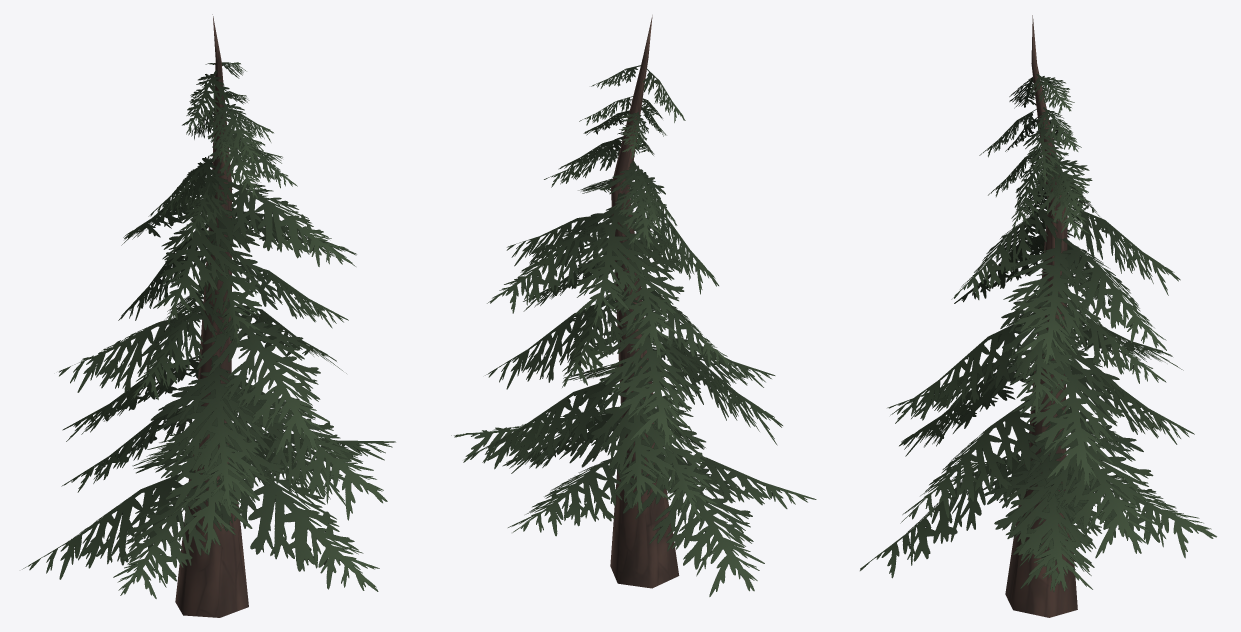
Rendered from Pine Tree 04.fbx.
3 renders of one model, left to right at view 1: azimuth 30°, elevation 25°; view 2: azimuth 150°, elevation 25°; view 3: azimuth 270°, elevation 25°, orthographic. The views are drawn at different scales.
Parts seen in each view (by area): view 1: pine_tree_04_m_LOD0; view 2: pine_tree_04_m_LOD0; view 3: pine_tree_04_m_LOD0.
Boxes of the visible parts, x1,y1,x2,y2 form: pine_tree_04_m_LOD0: (22, 14, 395, 617); pine_tree_04_m_LOD0: (451, 15, 816, 596); pine_tree_04_m_LOD0: (860, 15, 1216, 617).
Size of what is drawn, in the model's own units: 566 by 882 by 514.
